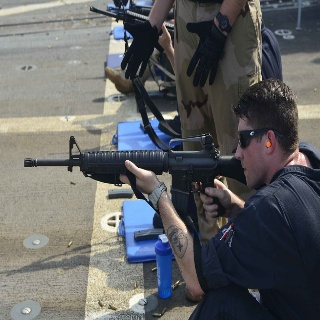rifle: (24, 132, 254, 216)
